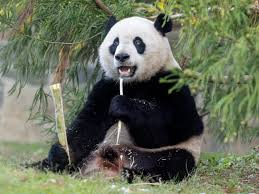Giant panda: (92, 12, 173, 84)
